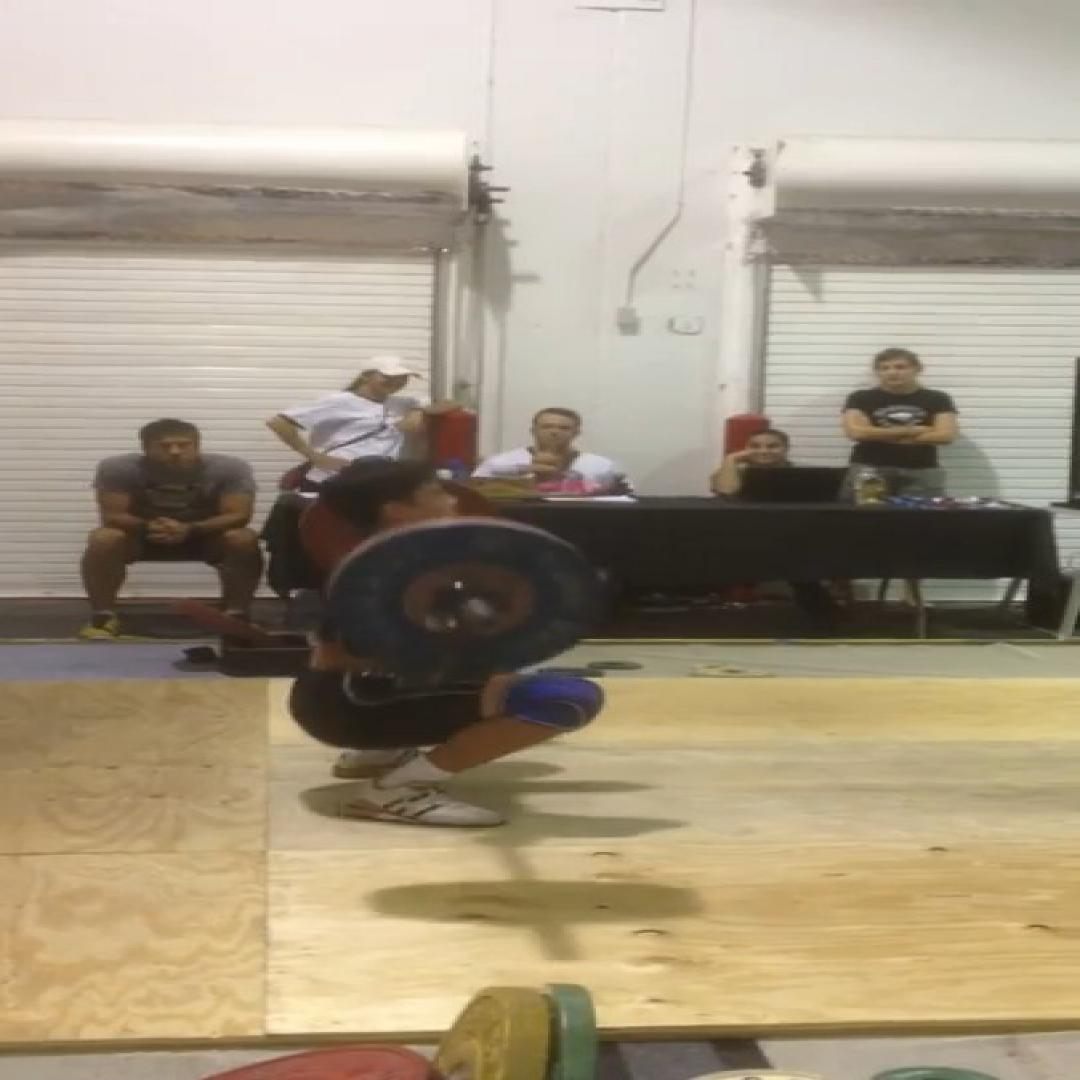Bar: (471, 612, 503, 632)
Barbell: (330, 525, 601, 672)
